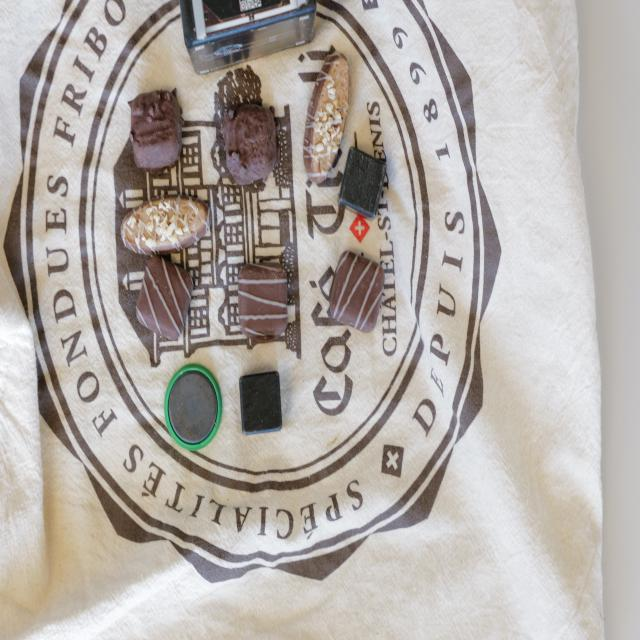Amandina: (304, 53, 351, 184), (122, 195, 212, 256)
Stracciatella: (136, 255, 192, 339), (332, 251, 385, 332), (238, 262, 289, 340)
Tentation_noir: (222, 102, 280, 186), (128, 89, 183, 170)
